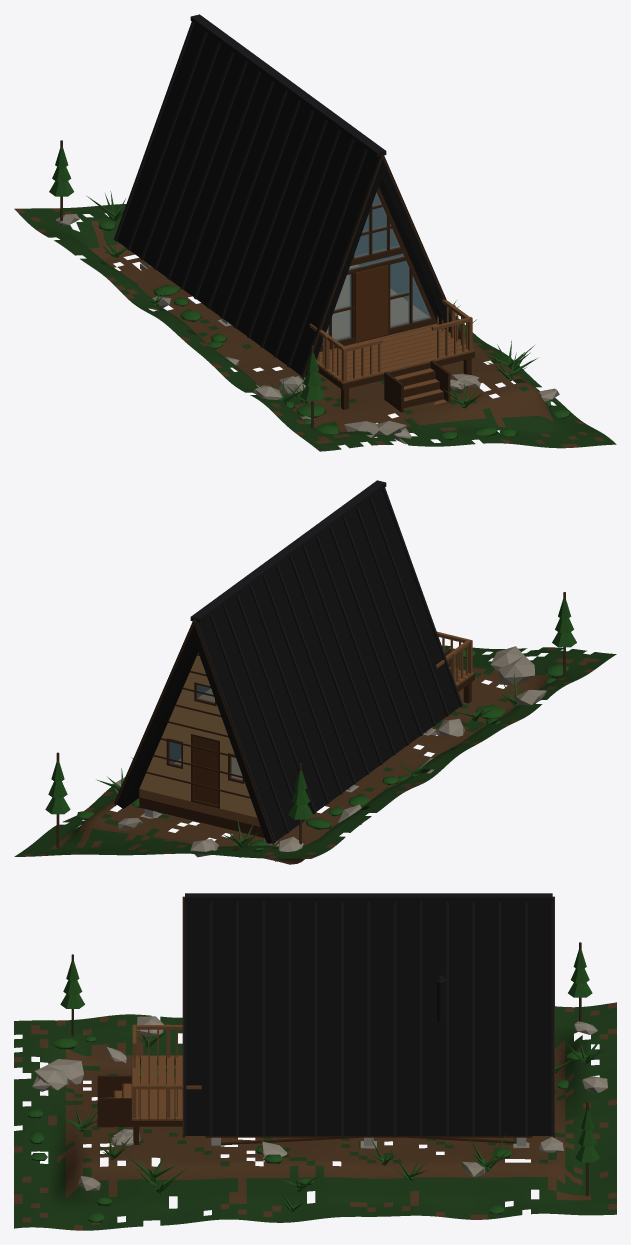
File: Enviroment-NONSITE.obj
The picture shows the model from 3 angles, top to bottom: view 1: azimuth 30°, elevation 25°; view 2: azimuth 150°, elevation 25°; view 3: azimuth 270°, elevation 25°; orthographic projection.
Visible parts, largest first — view 1: Cabin_Roof_L, Cabin_Terrain, Cabin_Roof_R, Front_Glass, Cabin_RidgeCap, Front_Door, Cabin_Floor, Roof_Seam_L2, Roof_Seam_L5, Roof_Seam_L6, Roof_Seam_L1, Roof_Seam_L4 (+17 smaller); view 2: Cabin_Roof_L, Cabin_Terrain, Back_Wall, Cabin_Roof_R, Cabin_RidgeCap, Back_Door, Cabin_Floor, Found_EndBeam_B, Sapling_BR, Roof_Seam_L1, Roof_Seam_L5, Roof_Seam_L13 (+17 smaller); view 3: Cabin_Roof_R, Cabin_Terrain, Cabin_RidgeCap, Step_Stringer_R, Roof_Seam_R0, Roof_Seam_R1, Roof_Seam_R3, Roof_Seam_R5, Roof_Seam_R7, Roof_Seam_R8, Roof_Seam_R11, Roof_Seam_R12 (+19 smaller).
Boxes of the visible parts, left/top/right/bottom form: Cabin_Roof_L: left=117, top=23, right=381, bottom=377; Cabin_Terrain: left=14, top=204, right=616, bottom=451; Cabin_Roof_R: left=354, top=159, right=459, bottom=338; Front_Glass: left=322, top=192, right=430, bottom=344; Cabin_RidgeCap: left=190, top=14, right=386, bottom=156; Front_Door: left=354, top=265, right=388, bottom=342; Cabin_Floor: left=326, top=264, right=428, bottom=338; Roof_Seam_L2: left=273, top=138, right=354, bottom=357; Roof_Seam_L5: left=234, top=109, right=314, bottom=328; Roof_Seam_L6: left=220, top=99, right=300, bottom=318; Roof_Seam_L1: left=287, top=148, right=367, bottom=367; Roof_Seam_L4: left=247, top=119, right=327, bottom=338; Cabin_Roof_L: left=195, top=489, right=459, bottom=843; Cabin_Terrain: left=14, top=645, right=616, bottom=864; Back_Wall: left=139, top=653, right=257, bottom=817; Cabin_Roof_R: left=116, top=625, right=210, bottom=808; Cabin_RidgeCap: left=190, top=480, right=386, bottom=622; Back_Door: left=193, top=736, right=218, bottom=805; Cabin_Floor: left=139, top=757, right=260, bottom=826; Found_EndBeam_B: left=139, top=798, right=264, bottom=837; Sapling_BR: left=45, top=752, right=70, bottom=848; Roof_Seam_L1: left=369, top=497, right=449, bottom=716; Roof_Seam_L5: left=316, top=536, right=396, bottom=755; Roof_Seam_L13: left=209, top=614, right=289, bottom=833; Cabin_Roof_R: left=186, top=901, right=551, bottom=1135; Cabin_Terrain: left=14, top=1002, right=616, bottom=1230; Cabin_RidgeCap: left=185, top=893, right=552, bottom=901; Step_Stringer_R: left=97, top=1098, right=131, bottom=1127; Roof_Seam_R0: left=183, top=898, right=186, bottom=1136; Roof_Seam_R1: left=209, top=901, right=212, bottom=1136; Roof_Seam_R3: left=262, top=901, right=265, bottom=1136; Roof_Seam_R5: left=314, top=901, right=317, bottom=1136; Roof_Seam_R7: left=367, top=901, right=370, bottom=1136; Roof_Seam_R8: left=393, top=901, right=396, bottom=1136; Roof_Seam_R11: left=472, top=901, right=475, bottom=1136; Roof_Seam_R12: left=498, top=901, right=501, bottom=1136.
Bounding box in the file's own units: 9.24 × 7.92 × 16.4.
